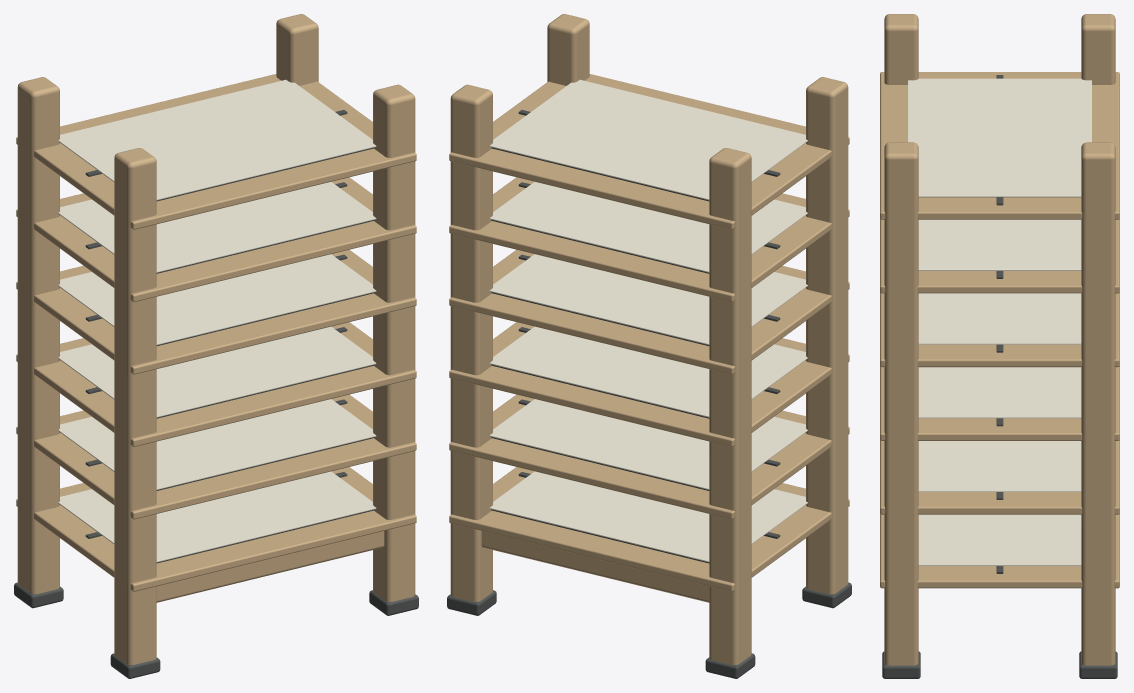
The model's file is bookbinding-and-paper-mill-sheet-drying-rack-fb544eb4__30552.glb.
3 renders of one model, left to right at view 1: azimuth 30°, elevation 25°; view 2: azimuth 150°, elevation 25°; view 3: azimuth 270°, elevation 25°, orthographic.
Visible parts, largest first — view 1: sheet-drying-rack; view 2: sheet-drying-rack; view 3: sheet-drying-rack.
Boxes of the visible parts, left/top/right/bottom form: sheet-drying-rack: left=14, top=14, right=418, bottom=678; sheet-drying-rack: left=447, top=14, right=851, bottom=678; sheet-drying-rack: left=880, top=14, right=1119, bottom=678.
Bounding box in the file's own units: 0.8001 × 1.35 × 0.56.
